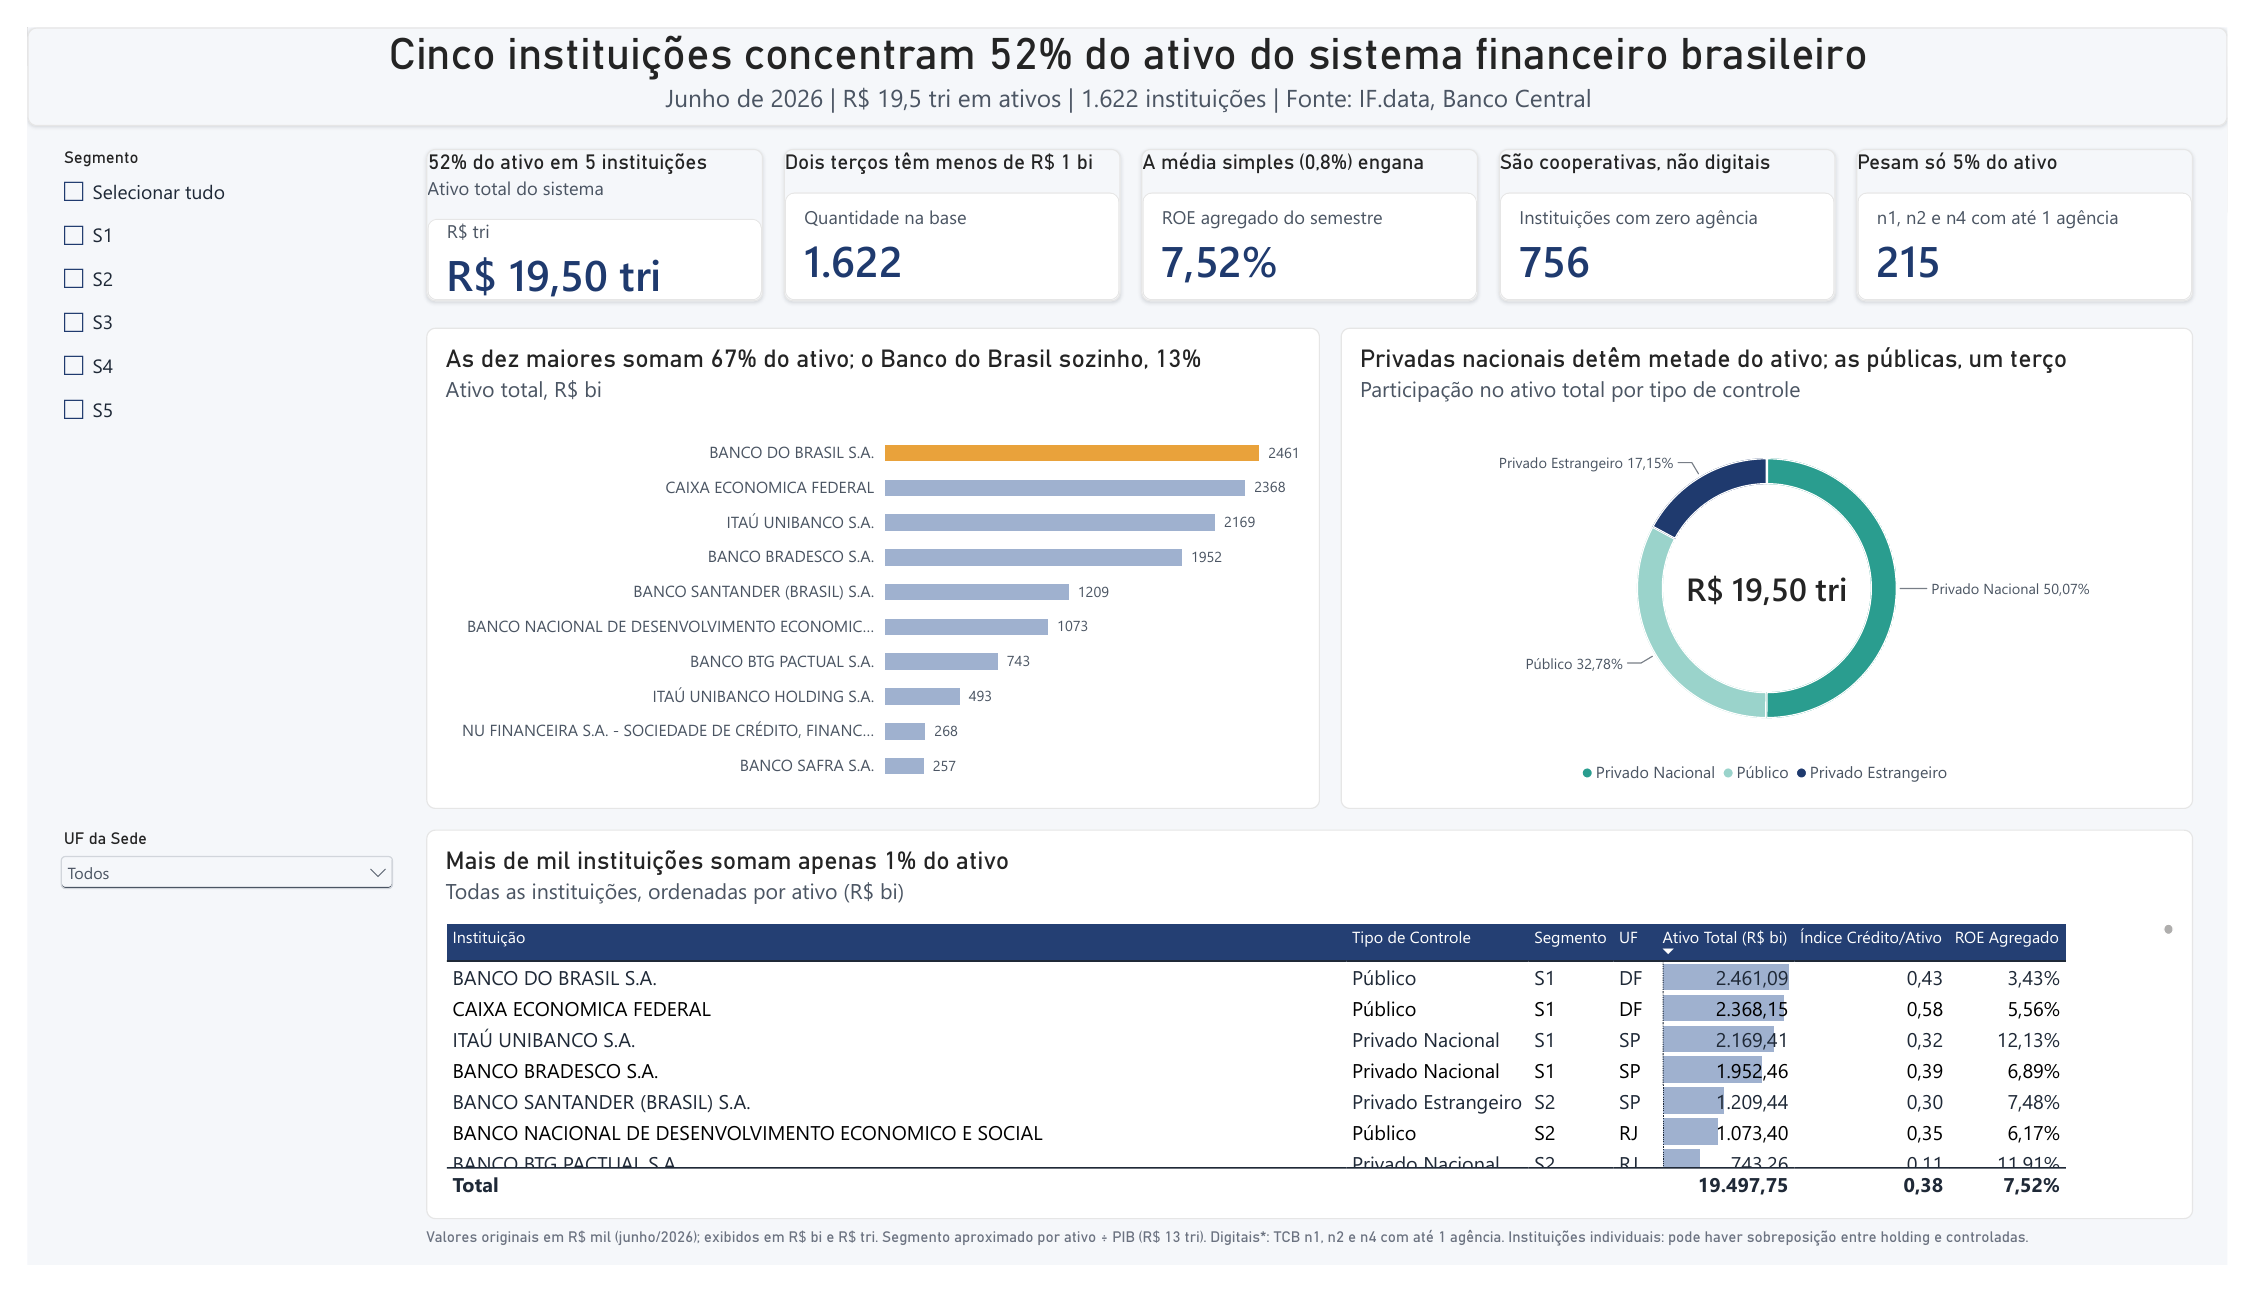

What the dashboard file says about the page in this screenshot:
{"tool":"powerbi","page":{"name":"Dados do Sistema Financeiro Brasileiro","canvas":[1920,1080],"ordinal":0},"visuals":[{"type":"textbox","title":"Cinco instituições concentram 52% do ativo do sistema financeiro brasileiro","box":[0,0,1920,86],"z":0},{"type":"cardVisual","title":"A média simples (0,8%) engana","fields":{"Data":["Medidas.ROE Agregado"]},"box":[972,106,294,133],"z":1000},{"type":"cardVisual","title":"Dois terços têm menos de R$ 1 bi","fields":{"Data":["Medidas.Qtd Instituições (txt)"]},"box":[660,106,294,133],"z":2000},{"type":"cardVisual","title":"Pesam só 5% do ativo","fields":{"Data":["Medidas.Qtd Digitais"]},"box":[1596,106,294,133],"z":3000},{"type":"cardVisual","title":"52% do ativo em 5 instituições","fields":{"Data":["Medidas.Ativo Total (R$ tri)"]},"box":[348,106,294,133],"z":4000},{"type":"barChart","title":"As dez maiores somam 67% do ativo; o Banco do Brasil sozinho, 13%","fields":{"Category":["ifdata.Instituição"],"Y":["Medidas.Ativo Total (R$ bi)"]},"box":[348,262,780,420],"z":5000},{"type":"donutChart","title":"Privadas nacionais detêm metade do ativo; as públicas, um terço","fields":{"Category":["ifdata.Tipo de Controle"],"Y":["Medidas.Ativo Total (R$ tri)","Medidas.Ativo Total (R$ tri)"]},"box":[1146,262,744,420],"z":6000},{"type":"tableEx","title":"Mais de mil instituições somam apenas 1% do ativo","fields":{"Values":["ifdata.Instituição","ifdata.Tipo de Controle","ifdata.Segmento","ifdata.UF","Medidas.Ativo Total (R$ bi)","Medidas.Índice Crédito/Ativo","Medidas.ROE Agregado"]},"box":[348,700,1542,340],"z":7000},{"type":"slicer","fields":{"Values":["ifdata.Segmento"]},"box":[24,106,300,330],"z":8000},{"type":"slicer","fields":{"Values":["ifdata.UF"]},"box":[24,700,300,105],"z":9000},{"type":"cardVisual","title":"São cooperativas, não digitais","fields":{"Data":["Medidas.Qtd sem Agência"]},"box":[1284,106,294,133],"z":10000},{"type":"textbox","title":"Valores originais em R$ mil (junho/2026); exibidos em R$ bi e R$ tri. Segmento aproximado por ativo ÷ PIB (R$ 13 tri). Digitais*: TCB n1, n2 e n4 com até 1 agência. Instituições individuais: pode have","box":[348,1048,1542,26],"z":11000}]}

Visuals, with their boxes in screenshot pixels (x1, y1, x2, y2), scaled from the page's 1920x1080 canvas onto the 2255x1293 screenshot:
"Cinco instituições concentram 52% do ativo do sistema financeiro brasileiro" textbox: x1=0 y1=0 x2=2254 y2=103
"A média simples (0,8%) engana" cardVisual: x1=1142 y1=127 x2=1487 y2=286
"Dois terços têm menos de R$ 1 bi" cardVisual: x1=775 y1=127 x2=1120 y2=286
"Pesam só 5% do ativo" cardVisual: x1=1874 y1=127 x2=2220 y2=286
"52% do ativo em 5 instituições" cardVisual: x1=409 y1=127 x2=754 y2=286
"As dez maiores somam 67% do ativo; o Banco do Brasil sozinho, 13%" barChart: x1=409 y1=314 x2=1325 y2=817
"Privadas nacionais detêm metade do ativo; as públicas, um terço" donutChart: x1=1346 y1=314 x2=2220 y2=817
"Mais de mil instituições somam apenas 1% do ativo" tableEx: x1=409 y1=838 x2=2220 y2=1245
slicer - ifdata.Segmento: x1=28 y1=127 x2=381 y2=522
slicer - ifdata.UF: x1=28 y1=838 x2=381 y2=964
"São cooperativas, não digitais" cardVisual: x1=1508 y1=127 x2=1853 y2=286
"Valores originais em R$ mil (junho/2026); exibidos em R$ bi e R$ tri. Segmento aproximado por ativo ÷ PIB (R$ 13 tri). Digitais*: TCB n1, n2 e n4 com até 1 agência. Instituições individuais: pode have" textbox: x1=409 y1=1255 x2=2220 y2=1286
